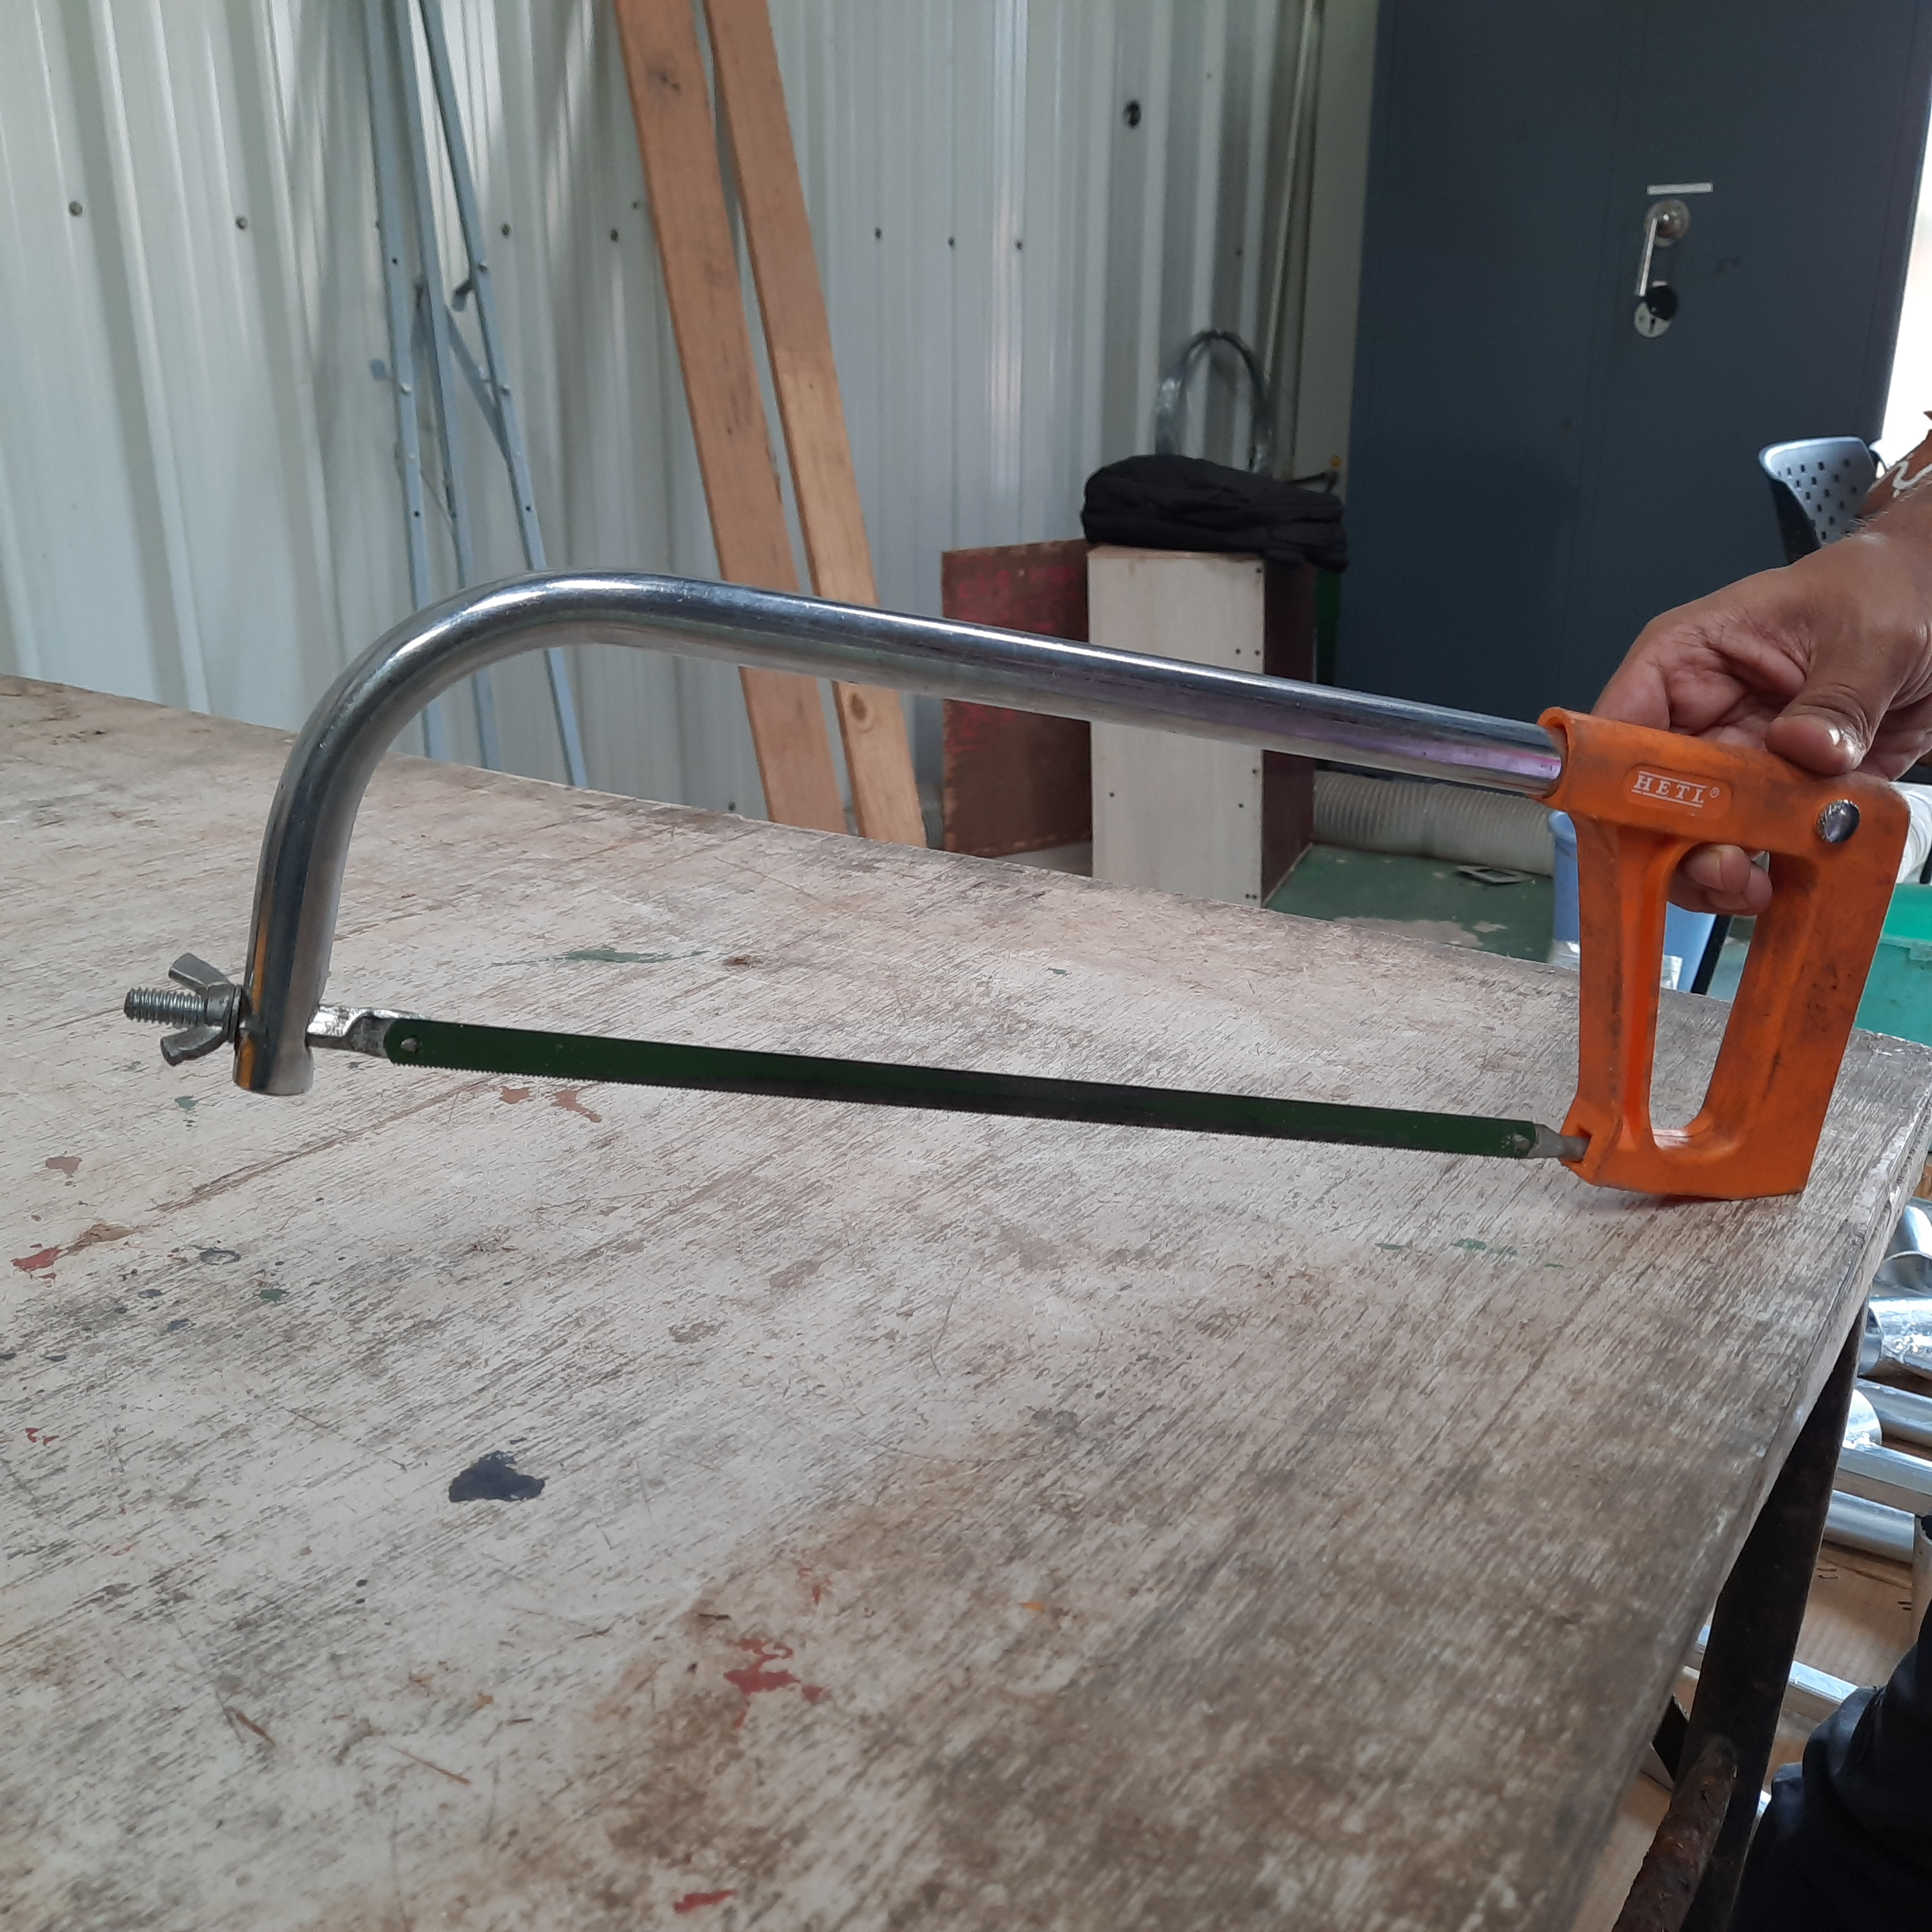Hexaframe: (120, 534, 1925, 1270)
